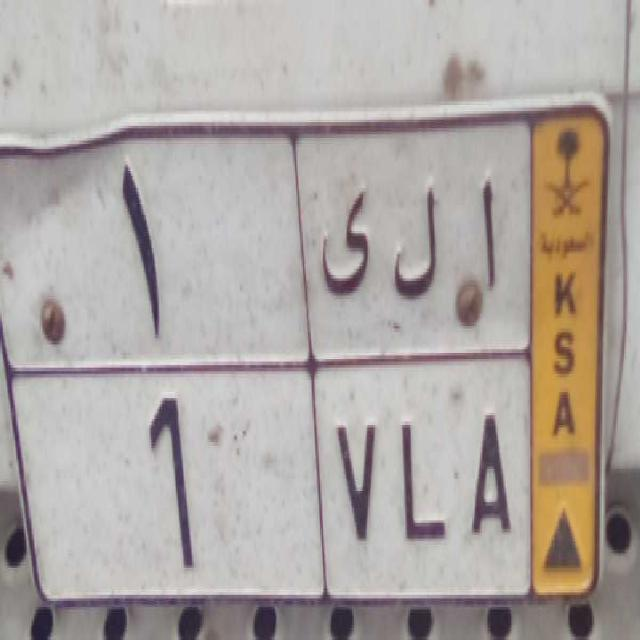license_plate: (10, 360, 532, 600)
